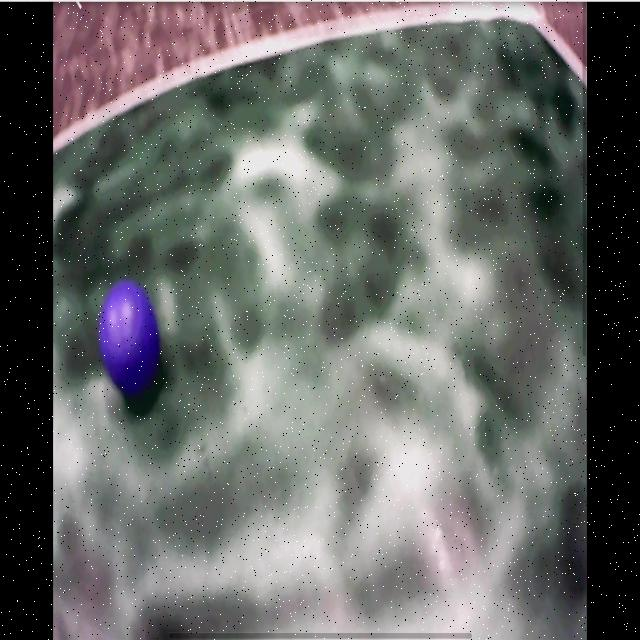ball: (100, 282, 160, 396)
